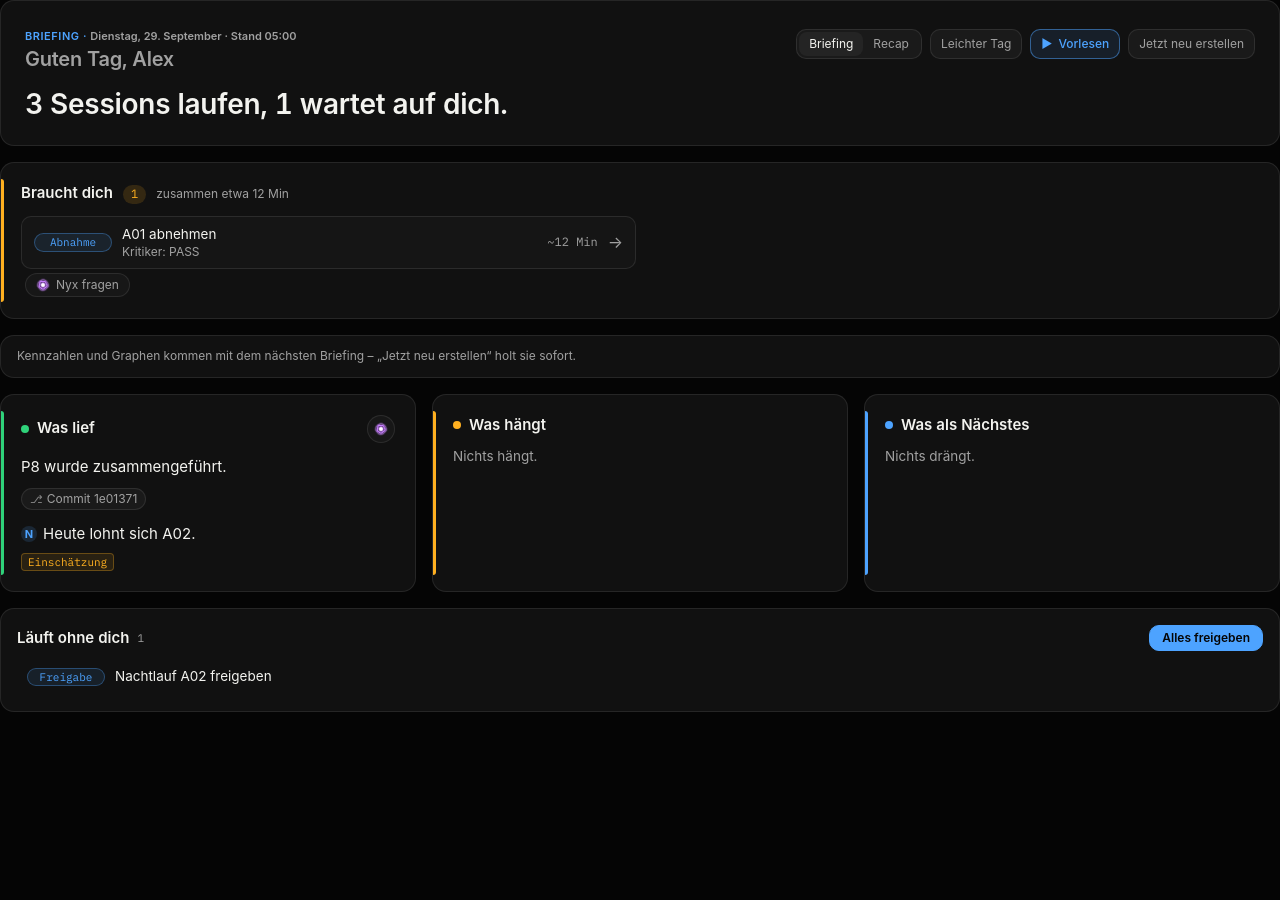
Test case: Briefing › „Alles freigeben“ fragt nach und ruft release-all mit den IDs
Step 1. Click the button "Alles freigeben" → (1206, 638), box x1=1149 y1=625 x2=1263 y2=651
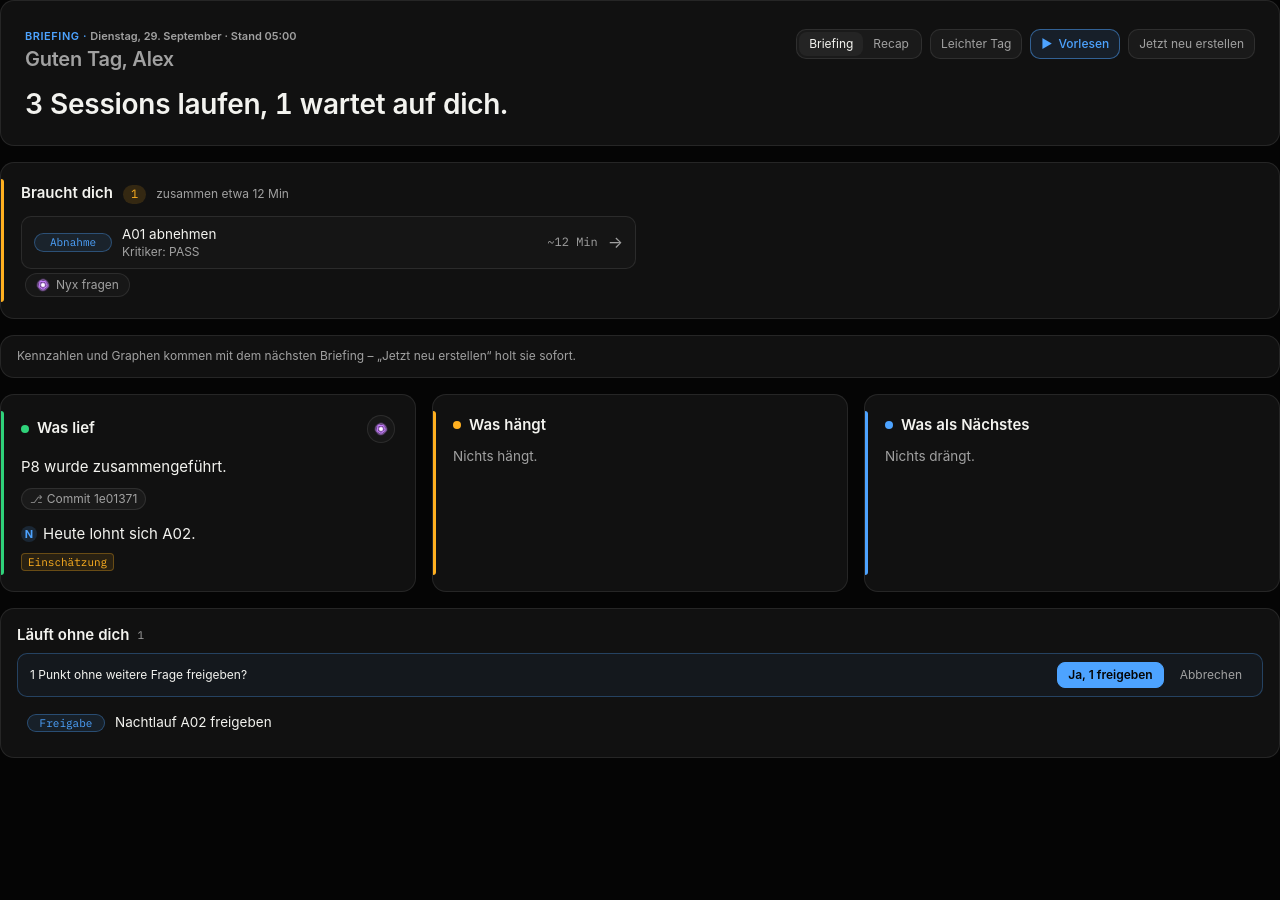
Step 2. Click the button "Ja, 1 freigeben" → (1110, 675), box x1=1057 y1=662 x2=1164 y2=688
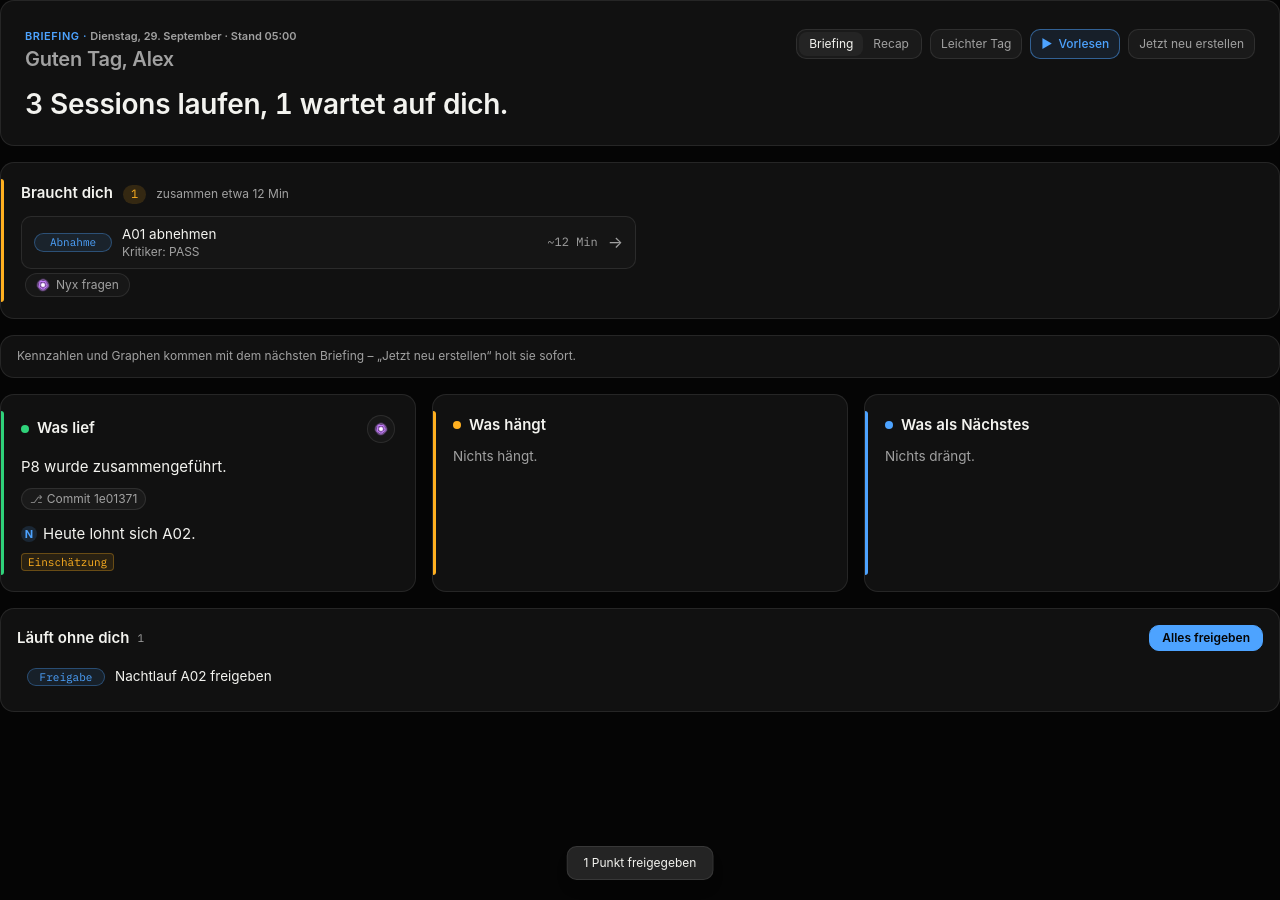
Expected: the text "1 Punkt freigegeben" is shown, x1=567 y1=846 x2=713 y2=880
